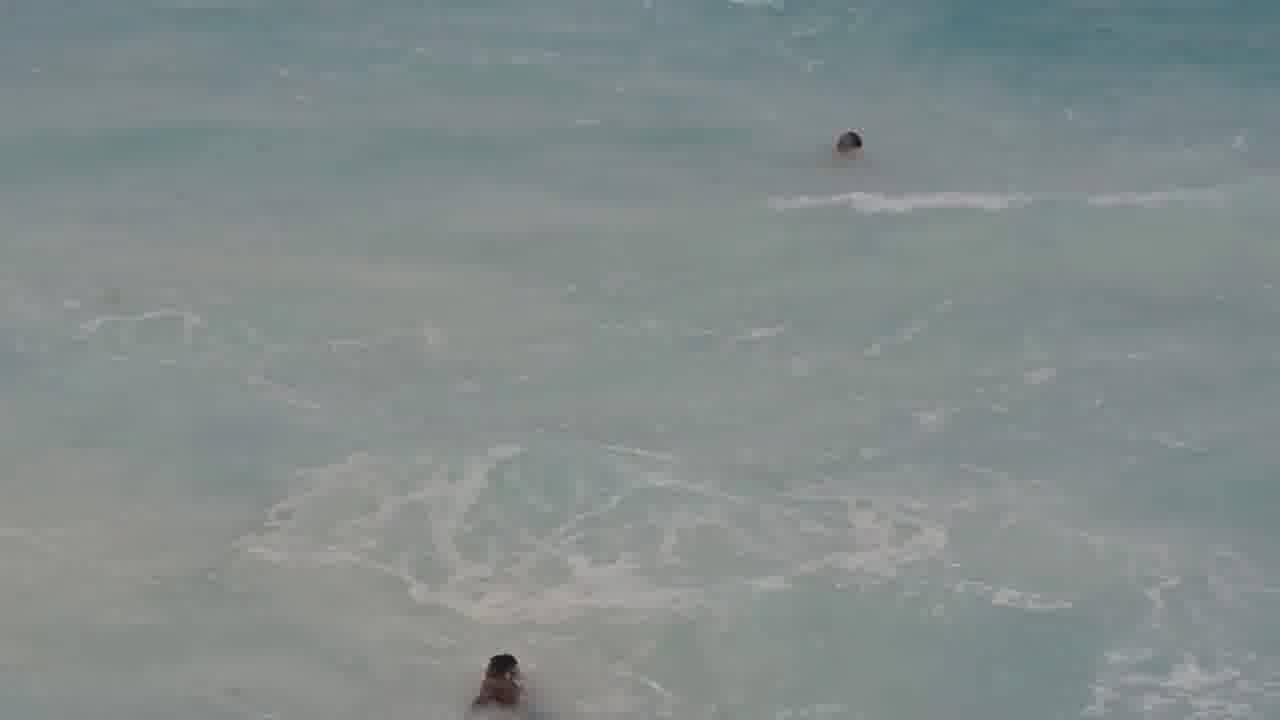human: (472, 644, 533, 687), (829, 116, 875, 161)
